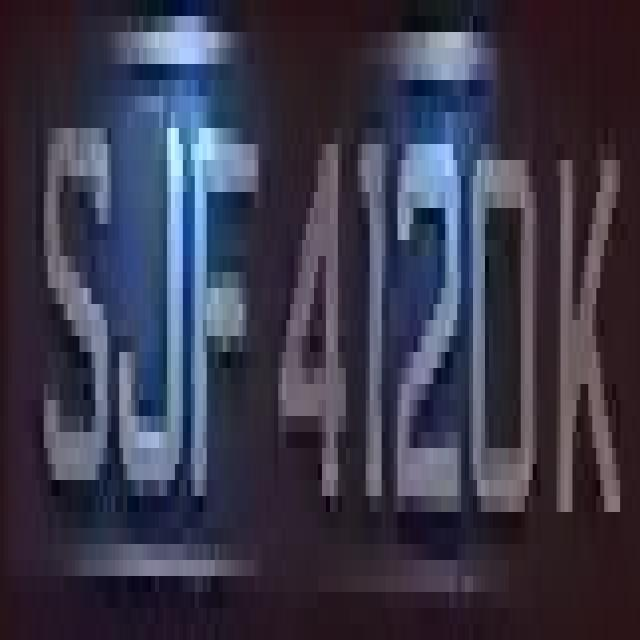0: (461, 112, 541, 560)
1: (354, 96, 394, 560)
2: (386, 112, 465, 560)
4: (266, 64, 358, 560)
F: (179, 96, 254, 592)
J: (111, 96, 183, 528)
K: (549, 112, 628, 576)
S: (32, 96, 115, 496)
